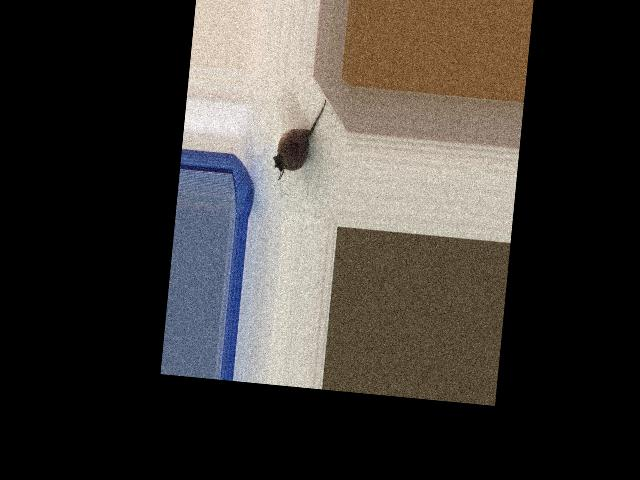beet: (271, 95, 326, 183)
